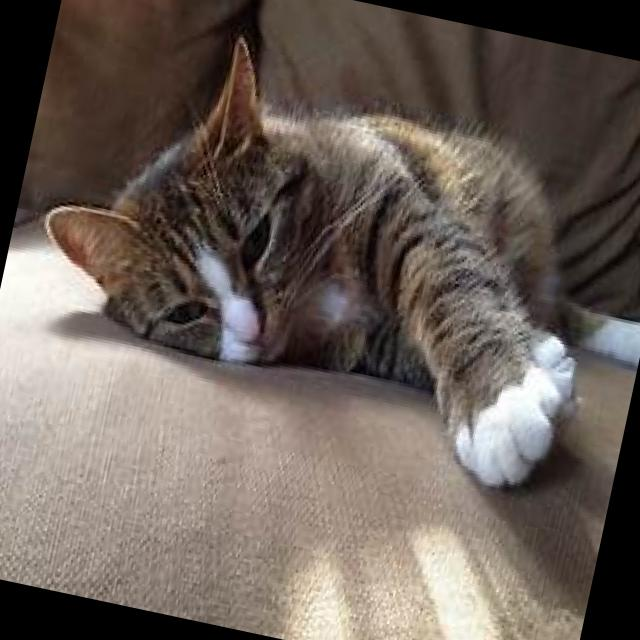animal: (7, 1, 640, 512)
